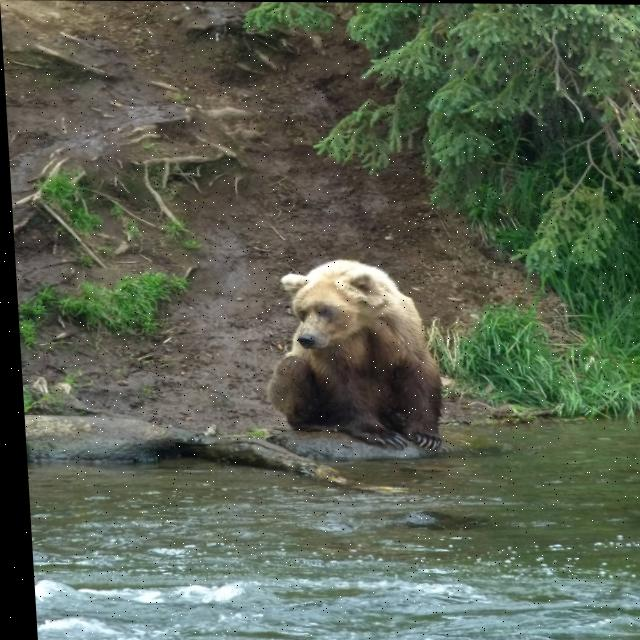bear face: (257, 256, 445, 453)
